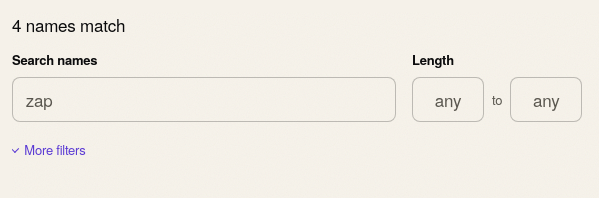
Toolbar length range › says so for the first character typed into an empty box, which changes no value
Clear the number field named "Shortest label length" at [448, 100], box 412,77 -> 484,122
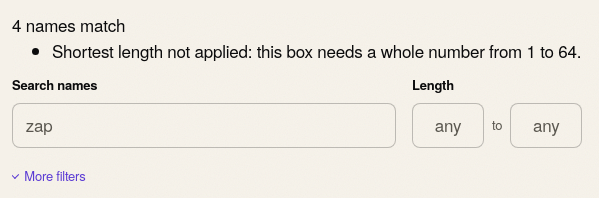
Expected: the list "not applied" reads "Shortest length not applied: this box needs a whole number from 1 to 64.", 52,38 -> 581,62
